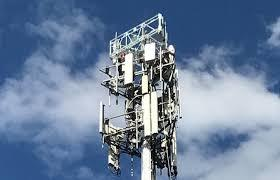antenna: (141, 92, 152, 136), (122, 51, 135, 86), (149, 91, 159, 134), (142, 39, 156, 64), (96, 99, 103, 137), (139, 74, 151, 96)
